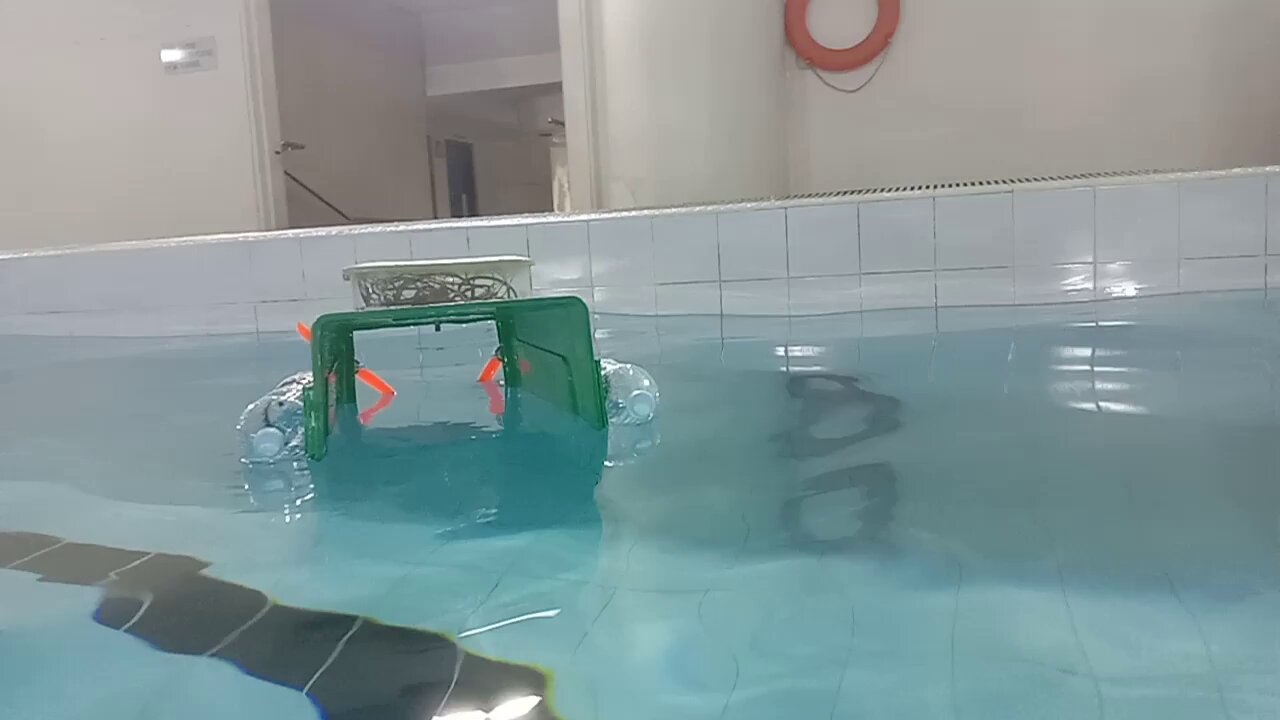drone: (232, 249, 662, 480)
